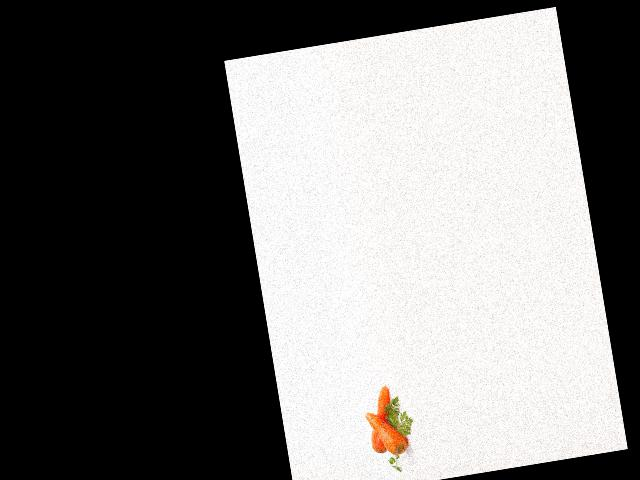carrot: (362, 384, 399, 455)
